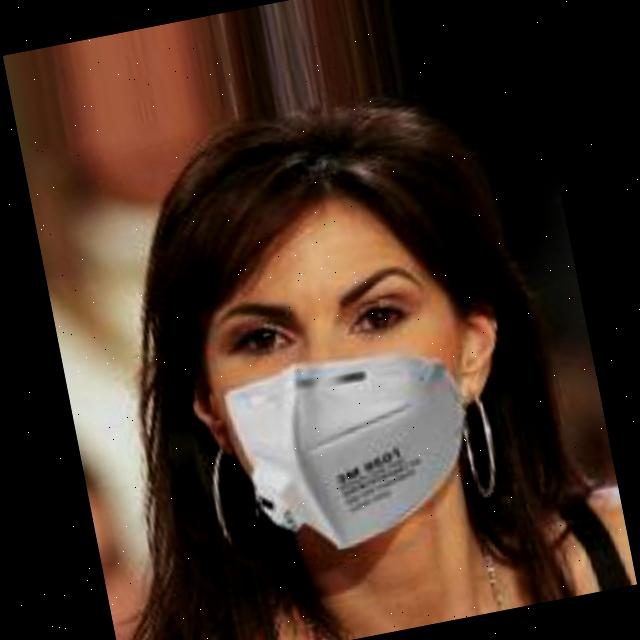suspicion: (139, 112, 560, 582)
